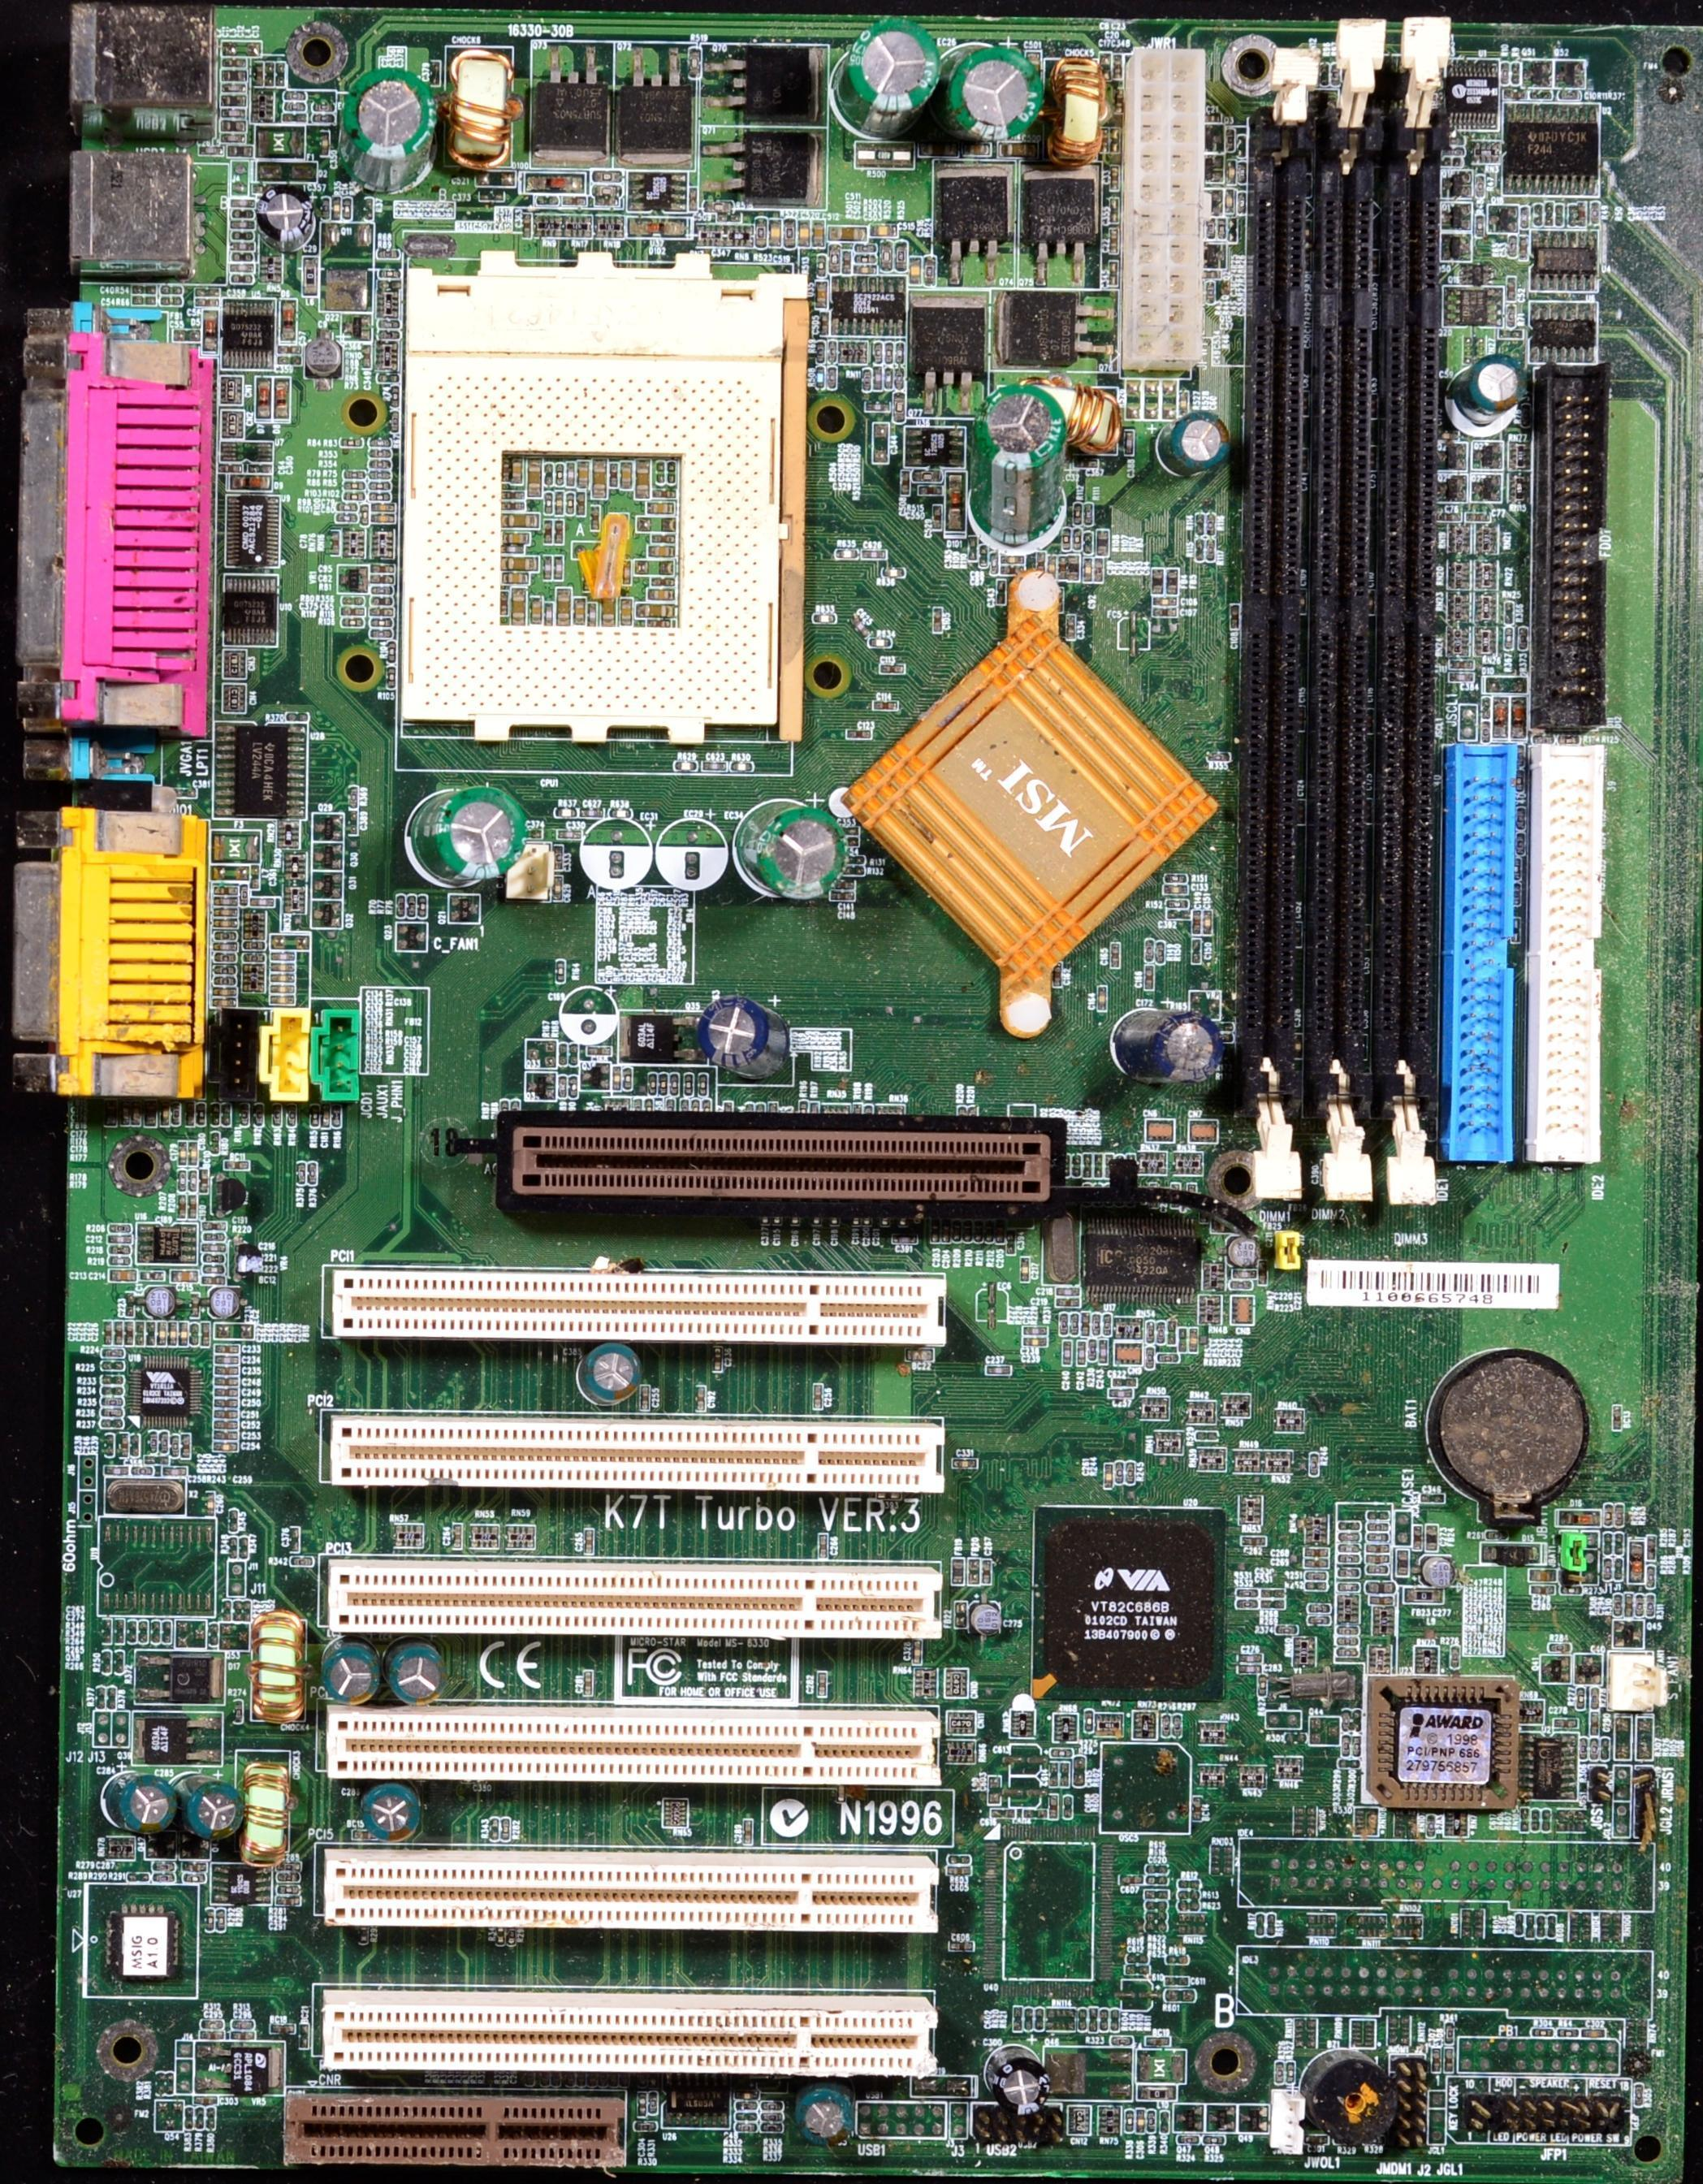Capacitor: (1115, 1341, 1143, 1364), (1231, 1295, 1254, 1324), (110, 1269, 138, 1282), (984, 1364, 1012, 1377), (1528, 1568, 1556, 1581), (478, 190, 505, 203), (173, 786, 197, 800), (140, 1269, 166, 1281), (1187, 1326, 1199, 1353), (1107, 1387, 1133, 1399), (115, 1617, 126, 1646), (213, 884, 240, 896), (171, 1269, 197, 1281), (214, 1409, 240, 1421), (953, 1457, 977, 1469), (639, 1385, 651, 1411), (696, 1386, 707, 1412), (215, 1343, 243, 1354), (145, 1454, 168, 1466), (1056, 1285, 1081, 1296), (101, 1618, 112, 1643), (214, 1366, 240, 1377), (1013, 2005, 1023, 2032), (202, 1220, 227, 1231), (1145, 1888, 1169, 1900), (201, 2030, 225, 2041), (211, 918, 237, 928), (214, 1377, 240, 1387), (321, 130, 331, 156), (214, 1430, 240, 1441), (1530, 1584, 1556, 1594), (1124, 1964, 1150, 1974), (1580, 2027, 1606, 2038), (1110, 1377, 1138, 1386), (982, 1559, 993, 1582), (270, 972, 296, 983), (158, 1321, 168, 1347), (213, 1420, 238, 1430), (1242, 1535, 1267, 1546), (819, 1534, 829, 1559), (1370, 1594, 1395, 1605), (946, 1865, 971, 1875), (230, 2030, 255, 2041), (1431, 2048, 1441, 2073), (193, 2095, 218, 2105), (131, 296, 156, 306), (187, 1140, 197, 1166), (182, 1433, 192, 1460), (104, 1465, 131, 1475), (1647, 1535, 1657, 1562), (214, 1397, 237, 1408), (1422, 1492, 1445, 1503), (169, 1321, 179, 1346), (1623, 1592, 1633, 1616), (1165, 1977, 1190, 1987), (362, 344, 373, 369), (214, 1355, 240, 1364), (584, 1529, 594, 1555), (1303, 1559, 1329, 1568), (1260, 1599, 1286, 1609), (1118, 1875, 1144, 1884), (178, 1141, 188, 1165), (1234, 1269, 1257, 1280), (213, 987, 238, 997), (201, 1322, 210, 1347), (1077, 1340, 1087, 1365), (1303, 1546, 1329, 1556), (132, 285, 158, 295), (371, 504, 396, 513), (214, 997, 236, 1008), (1589, 1711, 1600, 1734), (454, 1523, 463, 1550), (202, 1243, 227, 1252), (162, 1466, 187, 1476), (276, 1896, 300, 1906), (330, 531, 339, 556), (713, 1347, 722, 1373), (119, 1432, 128, 1458), (136, 1321, 146, 1343), (737, 2089, 759, 2100), (270, 952, 294, 962), (270, 962, 294, 972), (1413, 1525, 1423, 1549), (183, 1862, 206, 1871), (196, 288, 219, 297), (214, 897, 239, 906), (1023, 1337, 1048, 1346), (1520, 1808, 1529, 1833), (1339, 1522, 1360, 1533), (214, 1442, 236, 1452), (522, 214, 532, 236), (251, 865, 260, 889), (214, 908, 240, 916), (162, 1099, 171, 1126), (323, 1104, 332, 1128), (1023, 1327, 1050, 1335), (180, 1321, 189, 1345), (1178, 1327, 1186, 1351), (214, 1387, 239, 1396), (814, 1383, 822, 1410), (292, 1526, 300, 1553), (1260, 1588, 1285, 1597), (1554, 1719, 1578, 1728), (249, 463, 273, 472), (340, 606, 365, 615), (371, 564, 393, 574), (148, 1321, 156, 1347), (276, 1862, 302, 1870), (122, 1101, 131, 1125), (1169, 1319, 1178, 1343), (104, 1321, 113, 1344), (1367, 1544, 1390, 1553), (218, 465, 242, 474), (371, 608, 392, 617), (1063, 1340, 1071, 1365), (1526, 1914, 1534, 1939), (214, 941, 236, 950), (132, 1101, 141, 1124), (1056, 1298, 1078, 1307), (1081, 1312, 1090, 1334), (378, 268, 400, 277), (279, 344, 301, 353), (126, 1291, 134, 1316), (126, 1321, 134, 1345), (1100, 1339, 1108, 1363), (331, 197, 339, 221), (185, 1103, 194, 1125), (205, 1492, 214, 1514), (1367, 1555, 1389, 1564), (252, 897, 275, 906), (270, 996, 294, 1004), (1021, 1257, 1029, 1281), (1445, 2047, 1453, 2070), (279, 357, 302, 365), (1104, 1464, 1112, 1490), (1006, 1230, 1014, 1253), (192, 1295, 200, 1317), (115, 1321, 123, 1343), (1260, 1259, 1267, 1284), (639, 2091, 646, 2116), (372, 515, 394, 523), (371, 576, 395, 583), (270, 985, 293, 993)
Connector: (287, 2089, 624, 2167), (106, 1905, 183, 1979), (1271, 2089, 1304, 2155)
IC: (1084, 1215, 1201, 1304), (214, 724, 306, 818), (132, 1358, 201, 1427), (1517, 1731, 1580, 1801), (195, 2043, 283, 2092), (227, 495, 279, 568), (223, 576, 276, 646), (223, 297, 273, 370), (665, 2074, 728, 2126), (136, 1222, 197, 1265), (212, 1862, 270, 1903), (629, 171, 686, 211), (221, 439, 271, 464)
Resistor: (1165, 1988, 1196, 2002), (1365, 1581, 1394, 1594), (103, 1433, 115, 1456), (132, 1464, 155, 1477), (239, 1103, 250, 1128), (202, 1253, 227, 1265), (209, 1621, 219, 1648), (1166, 1954, 1191, 1966), (1238, 1653, 1264, 1663), (1157, 1353, 1181, 1364), (101, 1374, 124, 1386), (177, 1170, 189, 1192), (378, 318, 400, 330), (101, 1650, 111, 1675), (214, 964, 237, 975), (101, 1417, 123, 1429), (188, 1196, 198, 1220), (107, 1222, 132, 1233), (101, 1348, 125, 1359), (149, 1430, 159, 1455), (1123, 2108, 1134, 2132), (374, 373, 399, 383), (234, 1698, 244, 1724), (202, 2018, 224, 2030), (370, 459, 391, 470), (1338, 1568, 1362, 1579), (1307, 1615, 1330, 1625), (162, 1621, 172, 1645), (1336, 1647, 1359, 1658), (115, 1650, 125, 1674), (1546, 1914, 1557, 1938), (176, 1194, 186, 1219), (130, 1431, 140, 1456), (1604, 1502, 1614, 1527), (1178, 1879, 1203, 1888), (276, 1886, 301, 1896), (214, 929, 236, 940), (287, 1105, 297, 1127), (109, 1243, 132, 1254), (101, 1407, 123, 1417), (1589, 1686, 1600, 1709), (1177, 1901, 1199, 1911), (635, 2120, 656, 2131), (378, 249, 400, 260), (1146, 1320, 1156, 1344), (1307, 1603, 1331, 1613), (128, 1620, 137, 1644), (1110, 2007, 1120, 2031), (296, 1162, 306, 1184), (101, 1360, 123, 1370), (1603, 1534, 1614, 1556), (1365, 1564, 1387, 1575), (1532, 1808, 1542, 1830), (153, 1861, 175, 1871), (342, 197, 352, 219), (1633, 2084, 1644, 2106), (206, 2107, 217, 2129), (391, 412, 401, 434), (310, 1104, 320, 1127), (1230, 1282, 1253, 1291), (1087, 1338, 1097, 1361), (170, 1434, 179, 1457), (1338, 1542, 1362, 1552), (1276, 1624, 1299, 1634), (1258, 1675, 1268, 1698), (1267, 1913, 1277, 1936), (157, 2072, 166, 2095), (140, 1620, 149, 1646), (1237, 1664, 1262, 1673), (762, 2121, 783, 2132), (737, 2122, 758, 2133), (370, 493, 391, 504), (417, 895, 427, 918), (214, 952, 236, 962), (202, 1231, 225, 1241), (190, 1323, 200, 1346), (1195, 1431, 1218, 1441), (1614, 1559, 1623, 1581), (1645, 1564, 1655, 1587), (1236, 1588, 1259, 1598), (1612, 1594, 1622, 1617), (234, 1600, 244, 1623), (1450, 1646, 1460, 1669), (107, 1686, 117, 1709), (1576, 1686, 1586, 1709), (1535, 1915, 1545, 1938), (1444, 2022, 1454, 2044), (1286, 2061, 1295, 2084), (321, 197, 331, 219), (162, 295, 181, 306), (339, 439, 362, 448), (343, 469, 365, 479), (333, 1104, 342, 1128), (106, 1256, 131, 1265), (1070, 1312, 1078, 1339), (1636, 1591, 1645, 1615), (205, 1264, 225, 1274), (1487, 1530, 1507, 1541), (1338, 1553, 1359, 1563), (309, 1162, 318, 1184), (1367, 1511, 1389, 1520), (1366, 1522, 1388, 1532), (1339, 1532, 1361, 1542), (244, 1601, 253, 1623), (96, 1687, 106, 1709), (216, 1909, 226, 1931), (1256, 1914, 1265, 1936), (342, 618, 364, 628), (184, 1874, 210, 1882), (408, 894, 417, 918), (197, 1100, 206, 1123), (1091, 1312, 1100, 1335), (1060, 1313, 1069, 1337), (160, 1430, 169, 1454), (1616, 1502, 1625, 1525), (230, 1508, 239, 1532), (223, 1600, 232, 1624), (152, 1620, 161, 1644), (1548, 1642, 1571, 1651), (1541, 1809, 1550, 1832), (205, 1908, 214, 1931), (1531, 2027, 1554, 2036), (341, 596, 365, 605), (211, 1130, 221, 1151), (103, 1386, 124, 1395), (102, 1395, 123, 1405), (1125, 1461, 1135, 1482), (1615, 1533, 1625, 1555), (292, 1556, 313, 1566), (1338, 1582, 1359, 1592), (1146, 1866, 1167, 1875), (1145, 1911, 1166, 1921), (1558, 2028, 1579, 2038), (372, 585, 391, 595), (1146, 1347, 1155, 1369), (1310, 1453, 1319, 1476), (277, 1872, 300, 1881), (128, 1874, 150, 1883), (1515, 1913, 1524, 1935), (369, 618, 391, 627), (1078, 2008, 1087, 2032), (366, 198, 374, 223), (761, 2112, 781, 2121), (1178, 2134, 1199, 2144), (1204, 2135, 1224, 2145), (214, 975, 236, 984), (256, 1105, 265, 1127), (188, 1170, 197, 1191), (1306, 1572, 1328, 1581), (1145, 1901, 1167, 1909), (649, 2091, 658, 2113), (184, 2106, 193, 2128), (196, 2108, 205, 2130), (378, 331, 400, 340), (231, 2020, 254, 2028), (371, 597, 391, 607), (274, 1105, 283, 1126), (240, 1537, 249, 1559), (1647, 1595, 1656, 1616), (949, 1855, 970, 1864), (1146, 1875, 1167, 1884), (1145, 1922, 1166, 1931), (371, 469, 392, 478), (345, 481, 366, 490), (335, 513, 357, 522), (1336, 1636, 1359, 1644), (1276, 2061, 1284, 2084), (162, 285, 184, 293), (335, 503, 357, 511), (370, 481, 388, 491), (239, 886, 248, 906), (1368, 1533, 1388, 1542), (1601, 1558, 1610, 1578), (737, 2112, 757, 2121), (152, 1874, 174, 1882), (1035, 2007, 1044, 2029), (1148, 2109, 1156, 2131), (370, 439, 391, 447), (344, 492, 365, 500), (736, 2100, 755, 2109), (1237, 1599, 1258, 1607), (1100, 2008, 1109, 2029), (361, 505, 369, 526), (1113, 2036, 1131, 2045), (370, 449, 389, 458), (172, 1101, 179, 1124), (1104, 1313, 1111, 1335), (1157, 1322, 1165, 1343), (1115, 1462, 1123, 1482), (1178, 1890, 1199, 1898), (398, 895, 405, 917), (1338, 1627, 1359, 1634), (167, 2073, 175, 2095), (388, 666, 395, 688), (761, 2102, 780, 2110), (371, 630, 391, 638), (1127, 1954, 1148, 1961), (1161, 2110, 1168, 2131), (391, 386, 399, 407), (387, 642, 395, 661), (1026, 2008, 1032, 2029), (231, 1537, 237, 1559)
Transistor: (693, 101, 845, 220), (701, 44, 819, 126), (531, 41, 608, 166), (617, 42, 693, 168), (136, 1711, 222, 1766), (136, 1650, 223, 1703), (1238, 2103, 1271, 2134), (449, 893, 480, 923), (337, 564, 370, 593), (313, 841, 343, 871), (395, 922, 427, 950), (343, 314, 372, 344), (1541, 1655, 1571, 1684), (1174, 2103, 1204, 2131), (1207, 2103, 1236, 2132), (1613, 1620, 1644, 1647), (1574, 1654, 1601, 1684), (145, 1832, 176, 1859), (313, 814, 341, 842), (312, 900, 341, 928), (312, 871, 341, 897), (179, 1838, 211, 1857)
